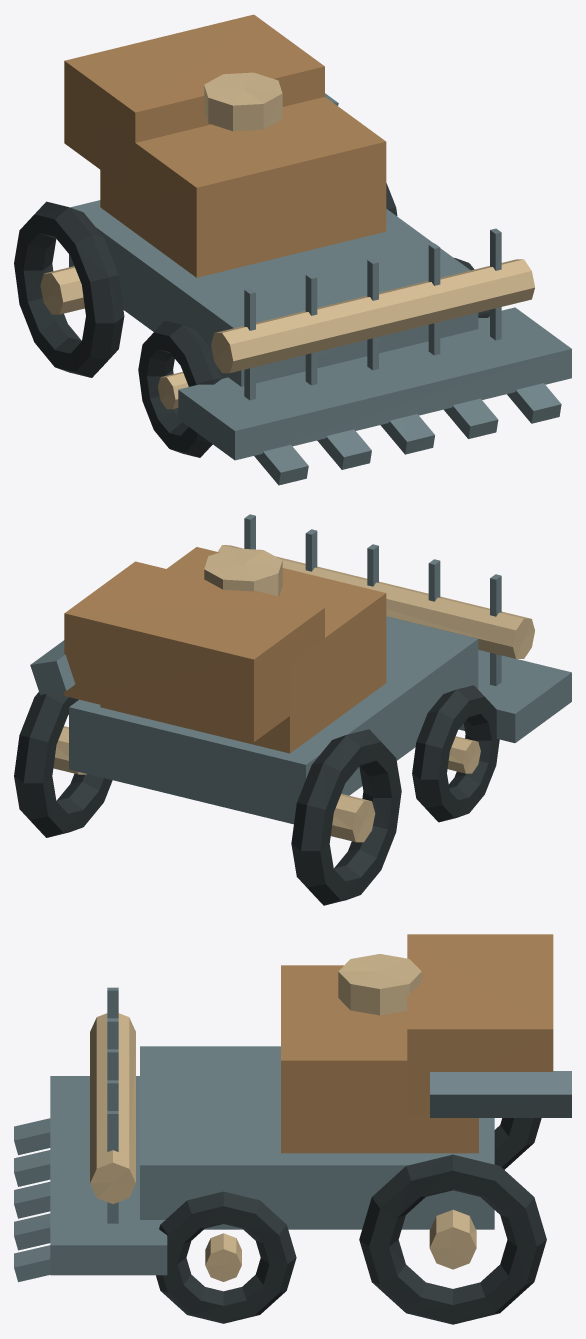
Rendered from robotic-harvester.source.glb.
3 renders of one model, top to bottom at view 1: azimuth 30°, elevation 25°; view 2: azimuth 150°, elevation 25°; view 3: azimuth 270°, elevation 25°, orthographic. The views are drawn at different scales.
Visible parts, largest first — view 1: robotic-harvester-unmanned-engine-cover-mesh, robotic-harvester-wide-cutter-bar-mesh, robotic-harvester-compact-rover-chassis-mesh, robotic-harvester-raised-grain-bin-mesh, robotic-harvester-reel-cylinder-mesh, robotic-harvester-rear-left-wheel-tire-mesh, robotic-harvester-front-left-wheel-tire-mesh, robotic-harvester-roof-lidar-mesh, robotic-harvester-rear-left-wheel-hub-mesh, robotic-harvester-cutter-tooth-0-mesh, robotic-harvester-cutter-tooth-0.72-mesh, robotic-harvester-cutter-tooth--0.36-mesh (+8 smaller); view 2: robotic-harvester-raised-grain-bin-mesh, robotic-harvester-compact-rover-chassis-mesh, robotic-harvester-unmanned-engine-cover-mesh, robotic-harvester-rear-left-wheel-tire-mesh, robotic-harvester-front-left-wheel-tire-mesh, robotic-harvester-rear-right-wheel-tire-mesh, robotic-harvester-reel-cylinder-mesh, robotic-harvester-wide-cutter-bar-mesh, robotic-harvester-roof-lidar-mesh, robotic-harvester-rear-left-wheel-hub-mesh, robotic-harvester-short-discharge-chute-mesh, robotic-harvester-front-left-wheel-hub-mesh (+4 smaller); view 3: robotic-harvester-compact-rover-chassis-mesh, robotic-harvester-unmanned-engine-cover-mesh, robotic-harvester-raised-grain-bin-mesh, robotic-harvester-rear-right-wheel-tire-mesh, robotic-harvester-wide-cutter-bar-mesh, robotic-harvester-front-right-wheel-tire-mesh, robotic-harvester-reel-cylinder-mesh, robotic-harvester-short-discharge-chute-mesh, robotic-harvester-roof-lidar-mesh, robotic-harvester-rear-right-wheel-hub-mesh, robotic-harvester-rear-left-wheel-tire-mesh, robotic-harvester-front-right-wheel-hub-mesh (+6 smaller).
Boxes of the visible parts, bbox=[...] form: robotic-harvester-unmanned-engine-cover-mesh: bbox=[100, 97, 386, 277]; robotic-harvester-wide-cutter-bar-mesh: bbox=[178, 307, 571, 460]; robotic-harvester-compact-rover-chassis-mesh: bbox=[69, 200, 478, 386]; robotic-harvester-raised-grain-bin-mesh: bbox=[64, 14, 324, 192]; robotic-harvester-reel-cylinder-mesh: bbox=[211, 259, 534, 373]; robotic-harvester-rear-left-wheel-tire-mesh: bbox=[14, 201, 124, 377]; robotic-harvester-front-left-wheel-tire-mesh: bbox=[138, 321, 222, 457]; robotic-harvester-roof-lidar-mesh: bbox=[204, 72, 282, 131]; robotic-harvester-rear-left-wheel-hub-mesh: bbox=[40, 266, 84, 314]; robotic-harvester-cutter-tooth-0-mesh: bbox=[380, 414, 434, 454]; robotic-harvester-cutter-tooth-0.72-mesh: bbox=[507, 383, 561, 423]; robotic-harvester-cutter-tooth--0.36-mesh: bbox=[317, 429, 371, 469]; robotic-harvester-raised-grain-bin-mesh: bbox=[64, 561, 324, 741]; robotic-harvester-compact-rover-chassis-mesh: bbox=[69, 616, 478, 824]; robotic-harvester-unmanned-engine-cover-mesh: bbox=[100, 547, 386, 753]; robotic-harvester-rear-left-wheel-tire-mesh: bbox=[291, 729, 401, 905]; robotic-harvester-front-left-wheel-tire-mesh: bbox=[412, 685, 499, 822]; robotic-harvester-rear-right-wheel-tire-mesh: bbox=[14, 691, 112, 837]; robotic-harvester-reel-cylinder-mesh: bbox=[217, 545, 534, 658]; robotic-harvester-wide-cutter-bar-mesh: bbox=[459, 650, 571, 742]; robotic-harvester-roof-lidar-mesh: bbox=[204, 548, 282, 596]; robotic-harvester-rear-left-wheel-hub-mesh: bbox=[330, 794, 375, 842]; robotic-harvester-short-discharge-chute-mesh: bbox=[30, 640, 75, 694]; robotic-harvester-front-left-wheel-hub-mesh: bbox=[447, 736, 480, 773]; robotic-harvester-compact-rover-chassis-mesh: bbox=[140, 1046, 494, 1229]; robotic-harvester-unmanned-engine-cover-mesh: bbox=[281, 965, 478, 1153]; robotic-harvester-raised-grain-bin-mesh: bbox=[407, 934, 553, 1114]; robotic-harvester-rear-right-wheel-tire-mesh: bbox=[359, 1154, 546, 1324]; robotic-harvester-wide-cutter-bar-mesh: bbox=[50, 1076, 167, 1275]; robotic-harvester-front-right-wheel-tire-mesh: bbox=[156, 1191, 296, 1323]; robotic-harvester-reel-cylinder-mesh: bbox=[90, 1013, 135, 1203]; robotic-harvester-short-discharge-chute-mesh: bbox=[430, 1071, 571, 1117]; robotic-harvester-roof-lidar-mesh: bbox=[338, 954, 421, 1015]; robotic-harvester-rear-right-wheel-hub-mesh: bbox=[429, 1209, 476, 1269]; robotic-harvester-rear-left-wheel-tire-mesh: bbox=[494, 1118, 541, 1169]; robotic-harvester-front-right-wheel-hub-mesh: bbox=[205, 1233, 241, 1281].
Bounding box in the file's own units: 1.92 × 1.5 × 2.67.
